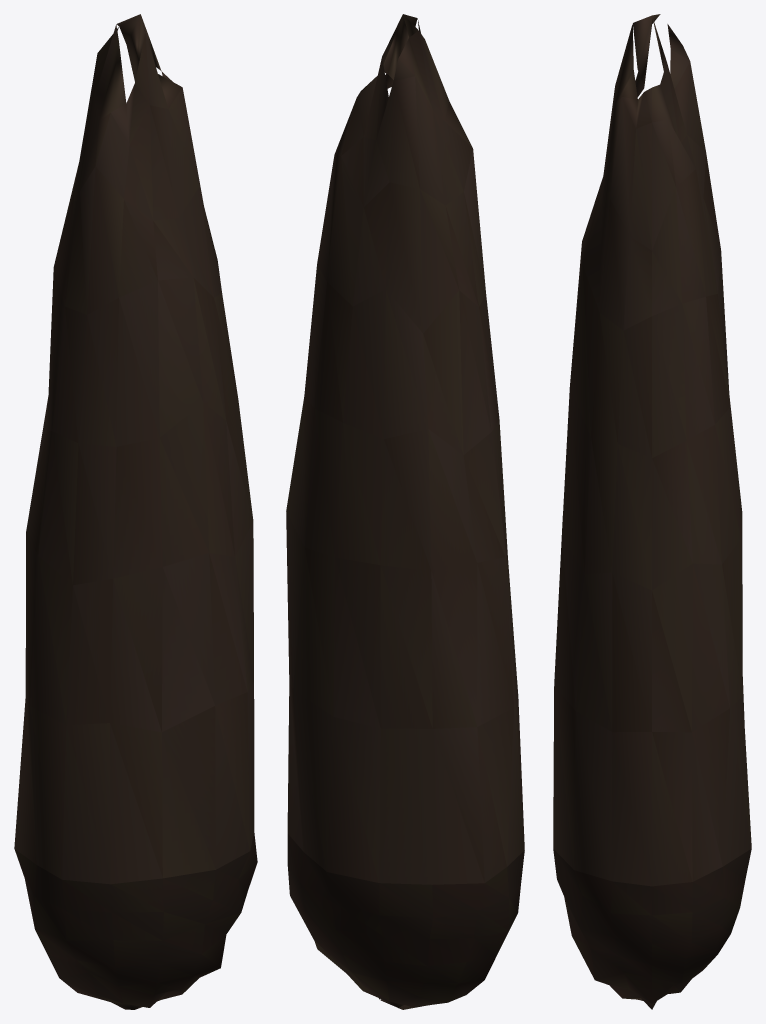
Rendered from mega_column_v0.glb.
3 views of the same model, side by side, from view 1: azimuth 30°, elevation 25°; view 2: azimuth 150°, elevation 25°; view 3: azimuth 270°, elevation 25° (orthographic).
Bounding box in the file's own units: 0.2318 × 1 × 0.1822.
